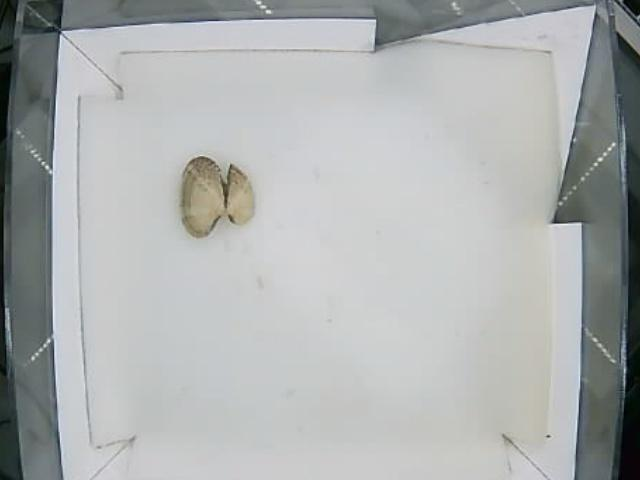Shell: (178, 156, 257, 239)
